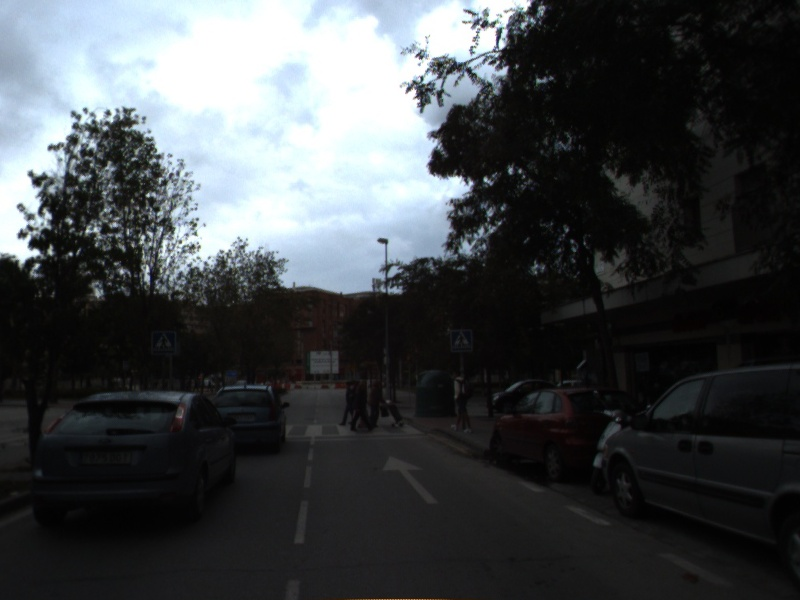STRAIGHT: (380, 454, 440, 506)
